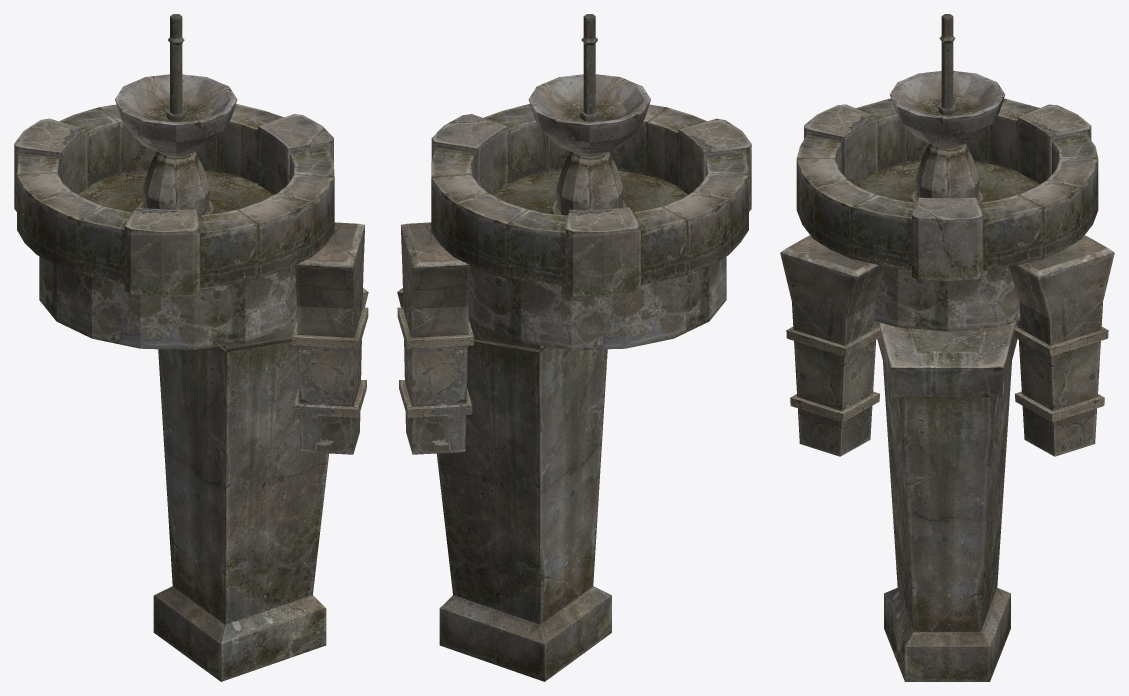
File: bg_lut_lutomb_floor01c_sm_khk.FBX
The picture shows the model from 3 angles, left to right: view 1: azimuth 30°, elevation 25°; view 2: azimuth 150°, elevation 25°; view 3: azimuth 270°, elevation 25°; orthographic projection. The views are drawn at different scales.
Parts seen in each view (by area): view 1: bg_lut_lutomb_floor01c_sm_khk; view 2: bg_lut_lutomb_floor01c_sm_khk; view 3: bg_lut_lutomb_floor01c_sm_khk.
Boxes of the visible parts, left/top/right/bottom form: bg_lut_lutomb_floor01c_sm_khk: left=14, top=14, right=368, bottom=681; bg_lut_lutomb_floor01c_sm_khk: left=397, top=14, right=751, bottom=681; bg_lut_lutomb_floor01c_sm_khk: left=780, top=14, right=1114, bottom=681.
Bounding box in the file's own units: 278 × 566 × 283.
